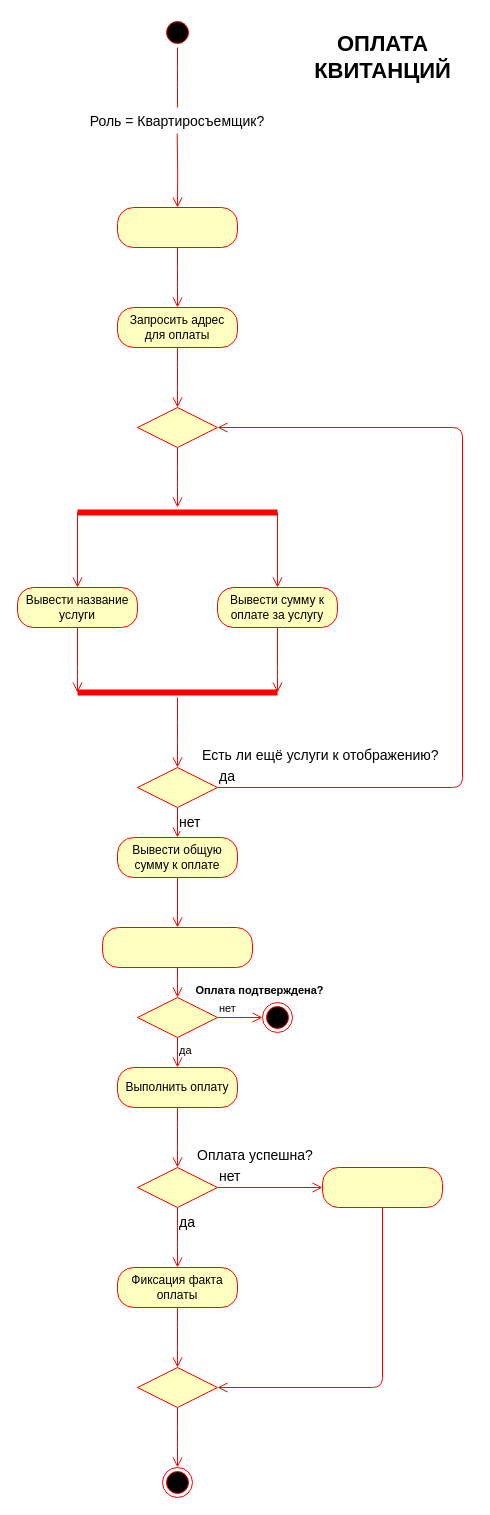
Some shapes in this 490 by 1515 pixel diagram are drawn without their labels. Here are the shapes that lost their labels. From the top down, the centre of each, then its label:
At point (177, 227): "Загрузить список адресов".
At point (177, 947): "Запросить подтверждение оплаты".
At point (382, 1187): "Вывести сообщение об ошибке".
